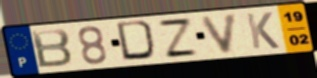8: (77, 25, 109, 66)
B: (29, 27, 75, 70)
D: (114, 19, 161, 62)
K: (243, 11, 282, 51)
V: (199, 11, 241, 55)
Z: (155, 18, 201, 59)
